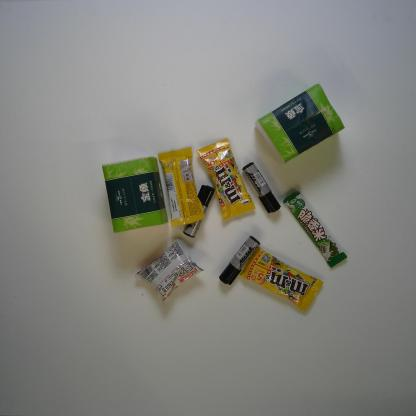Chocolate: (239, 247, 323, 316), (282, 189, 348, 270), (197, 138, 255, 224), (156, 146, 206, 229)
Dessert: (133, 237, 205, 307)
Stationery: (217, 233, 261, 286), (242, 160, 282, 214), (183, 182, 216, 239)
Tissue: (254, 82, 346, 164), (101, 154, 166, 235)
